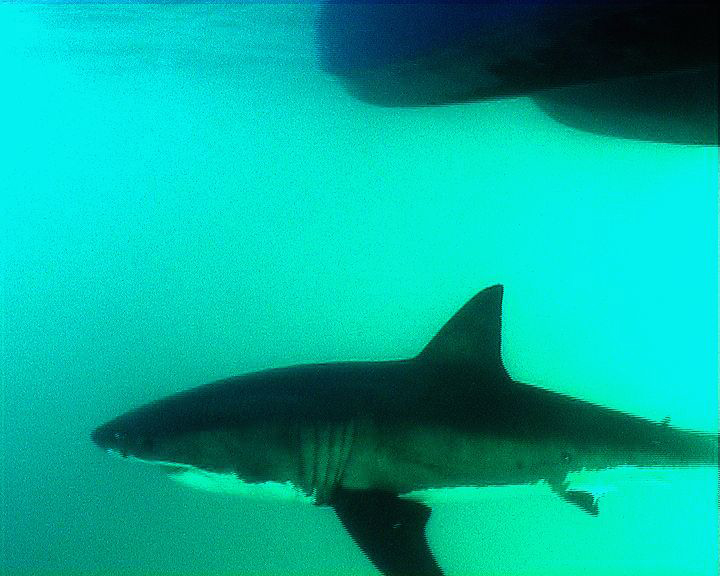Carcharodon_carcharias: (79, 275, 715, 576)
